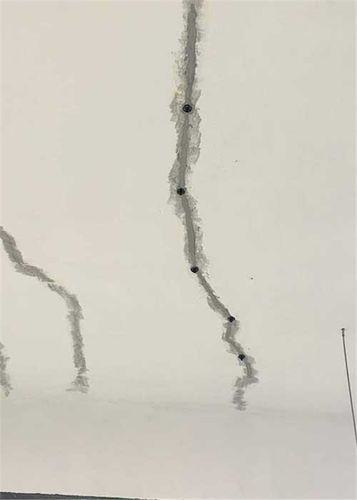Spalling: (167, 105, 260, 412), (1, 224, 90, 394), (1, 342, 14, 398)
